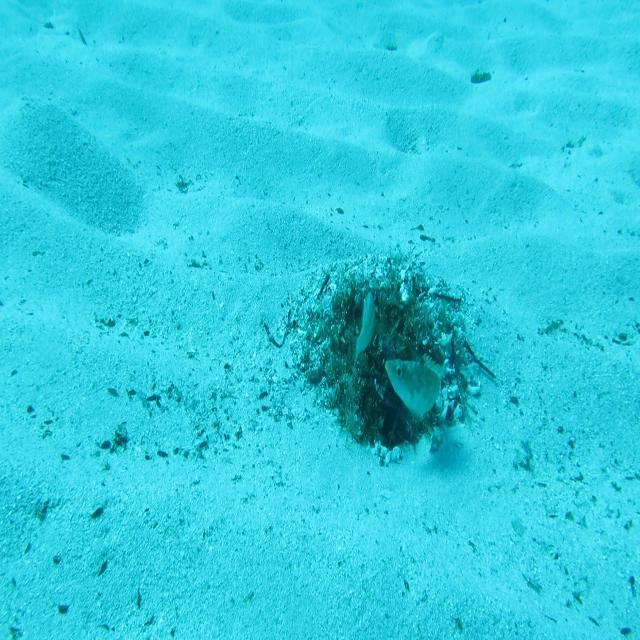BEND: (383, 350, 447, 423)
core_nest: (356, 298, 402, 356)
female: (351, 287, 377, 373)
nest: (279, 240, 486, 483)
vegetation: (468, 65, 494, 87)
